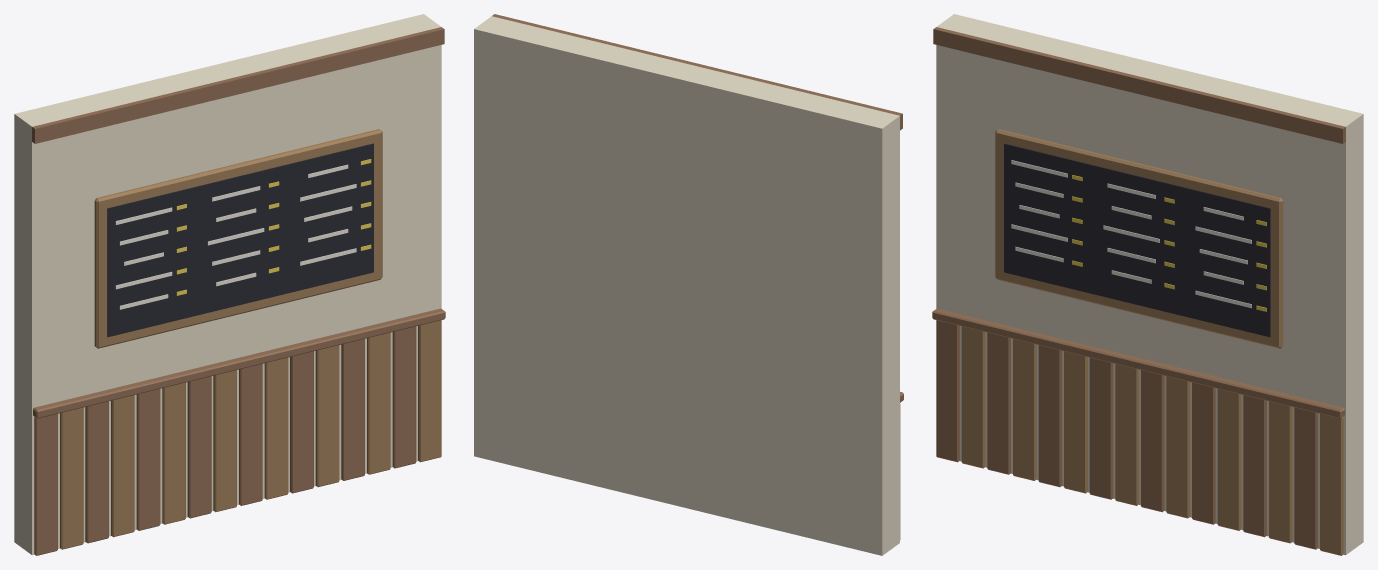
Rendered from wall_an_cafe.glb.
3 renders of one model, left to right at view 1: azimuth 30°, elevation 25°; view 2: azimuth 150°, elevation 25°; view 3: azimuth 330°, elevation 25°, orthographic.
Visible parts, largest first — view 1: wall_an_cafe; view 2: wall_an_cafe; view 3: wall_an_cafe.
Part boxes in pixels (x1,y1,x2,y2): wall_an_cafe: [14, 14, 445, 555]; wall_an_cafe: [474, 14, 903, 555]; wall_an_cafe: [932, 14, 1363, 555].
Size of the model in its own units: 4 by 4 by 0.38.
